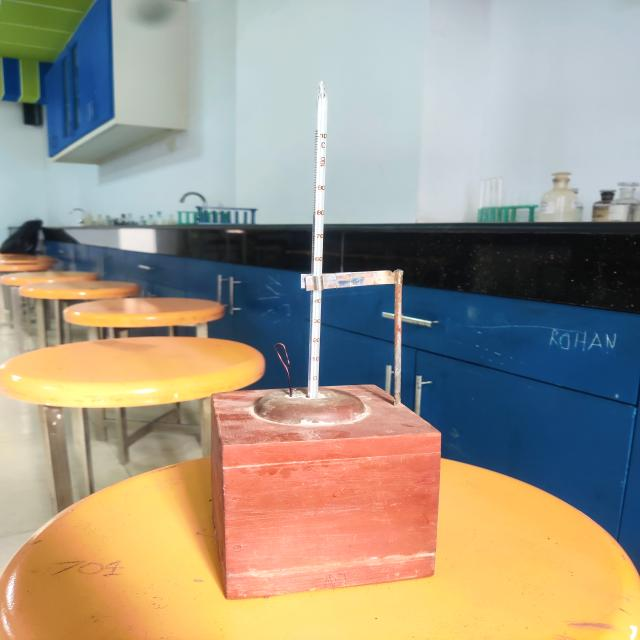Calorimeter: (175, 64, 486, 630)
